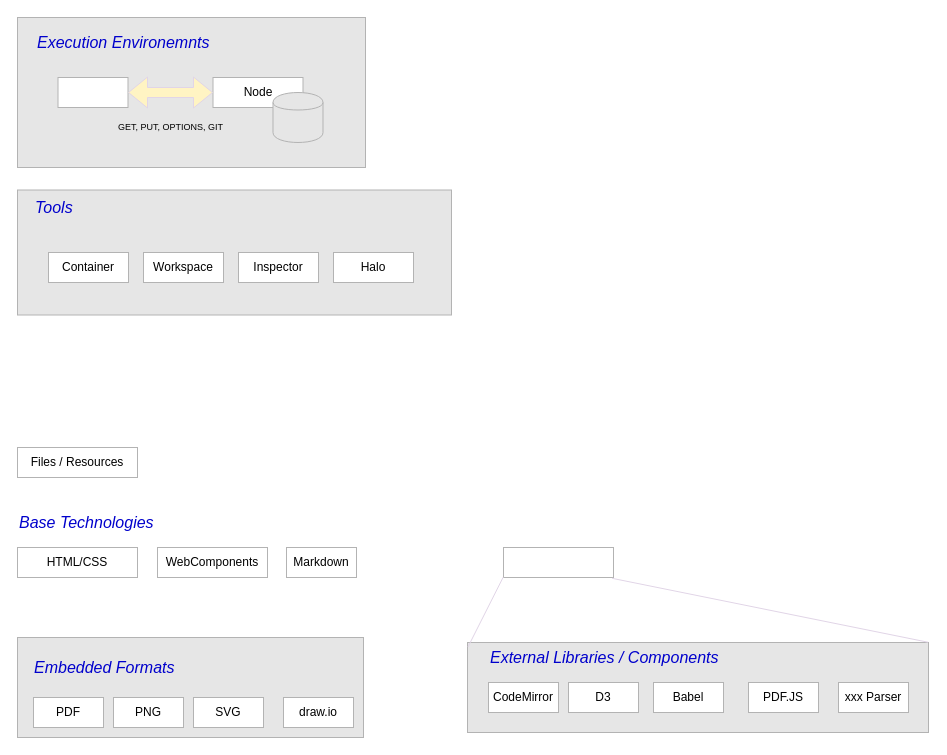
Some shapes in this 947 by 755 pixel diagram are drawn without their labels. Each missing label, with the centre of its shape:
Browser: the point at 92,92
git: the point at 297,117
JavaScript: the point at 558,562
